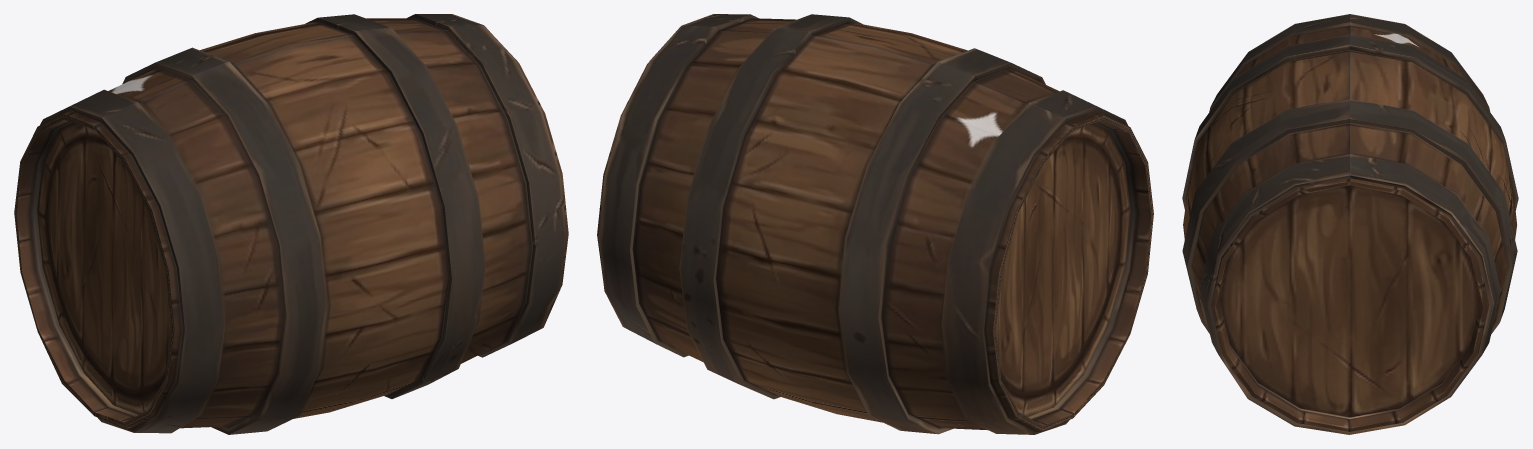
The model's file is SC05_C_v02_barrel.fbx.
3 views of the same model, side by side, from view 1: azimuth 30°, elevation 25°; view 2: azimuth 150°, elevation 25°; view 3: azimuth 270°, elevation 25° (orthographic). The views are drawn at different scales.
Visible parts, largest first — view 1: barrel_low.019; view 2: barrel_low.019; view 3: barrel_low.019.
Boxes of the visible parts, x1,y1,x2,y2 form: barrel_low.019: (14,14,568,434); barrel_low.019: (597,14,1153,434); barrel_low.019: (1182,14,1518,434).
Size of the model in its own units: 78.91 by 67.3 by 67.38.
